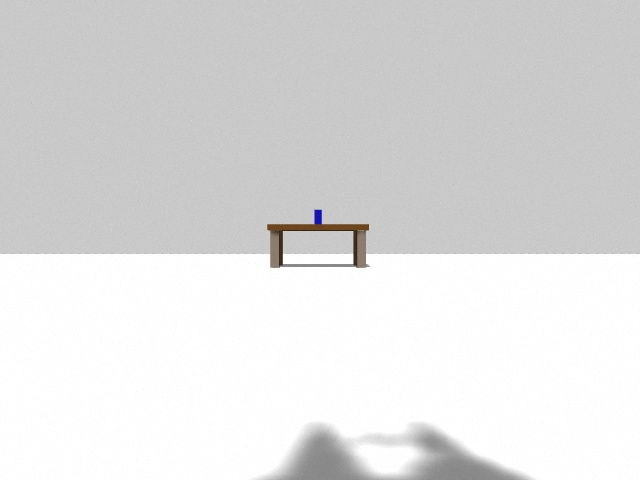blue_cube: (314, 210, 322, 224)
